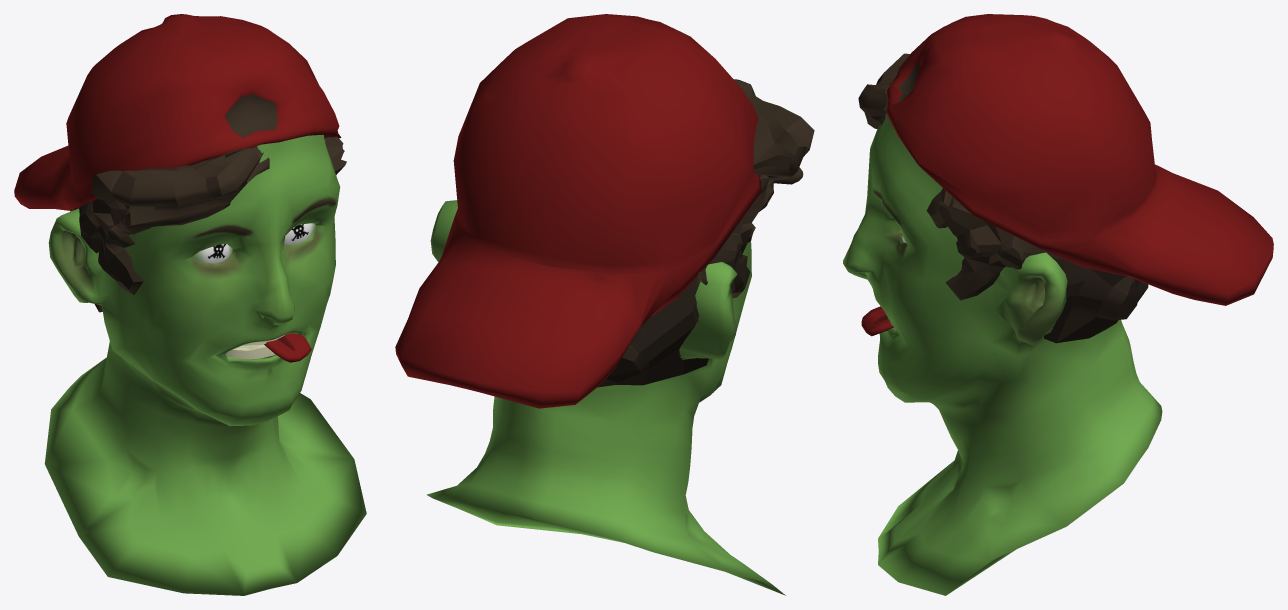
Rendered from DeadHead_updated.fbx.
3 renders of one model, left to right at view 1: azimuth 30°, elevation 25°; view 2: azimuth 150°, elevation 25°; view 3: azimuth 270°, elevation 25°, orthographic. The views are drawn at different scales.
Visible parts, largest first — view 1: NPC_Head, NPC_Hat, NPC_Hair, NPCMale_LEye, Tongue, Teeth_Bot; view 2: NPC_Hat, NPC_Head, NPC_Hair; view 3: NPC_Head, NPC_Hat, NPC_Hair, Tongue.
Boxes of the visible parts, left/top/right/bottom form: NPC_Head: left=44, top=134, right=366, bottom=595; NPC_Hat: left=14, top=14, right=341, bottom=211; NPC_Hair: left=73, top=136, right=346, bottom=312; NPCMale_LEye: left=191, top=223, right=315, bottom=263; Tongue: left=264, top=333, right=311, bottom=362; Teeth_Bot: left=225, top=344, right=275, bottom=359; NPC_Hat: left=395, top=14, right=761, bottom=408; NPC_Head: left=426, top=200, right=785, bottom=595; NPC_Hair: left=598, top=79, right=814, bottom=387; NPC_Head: left=843, top=113, right=1162, bottom=595; NPC_Hat: left=886, top=14, right=1273, bottom=305; NPC_Hair: left=858, top=53, right=1148, bottom=343; Tongue: left=861, top=306, right=893, bottom=336.
Bounding box in the file's own units: 23.82 × 41.44 × 31.21.
